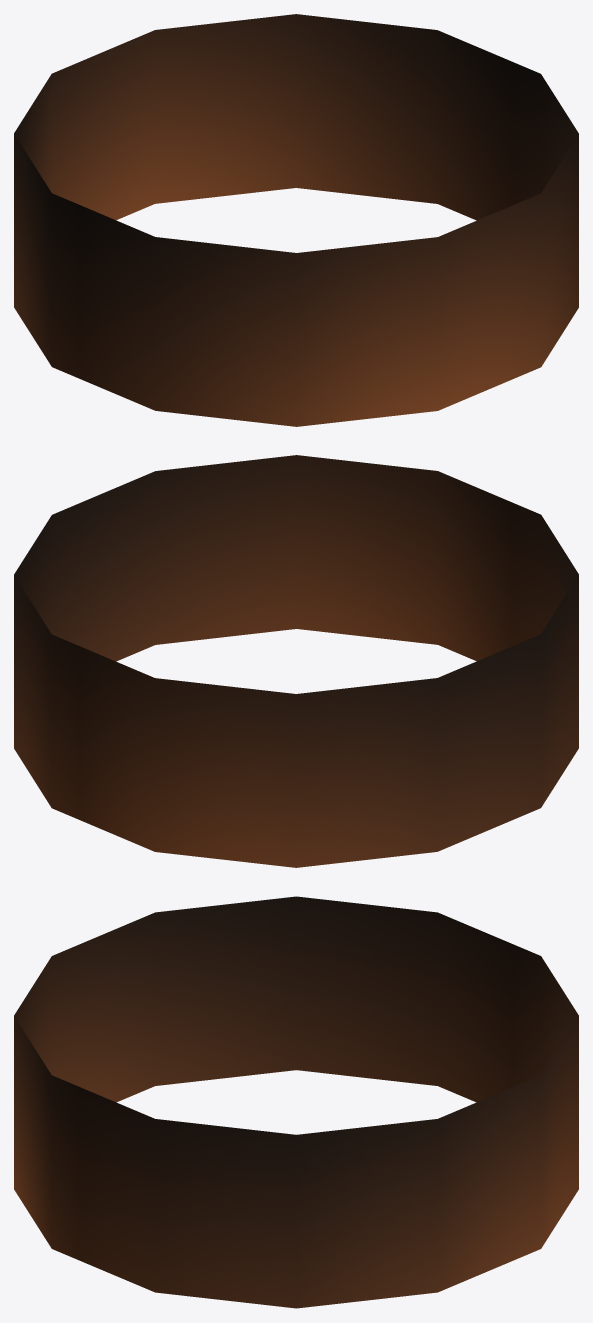
File: team_haikei.fbx
3 renders of one model, top to bottom at view 1: azimuth 30°, elevation 25°; view 2: azimuth 150°, elevation 25°; view 3: azimuth 270°, elevation 25°, orthographic.
Parts seen in each view (by area): view 1: pCylinder1; view 2: pCylinder1; view 3: pCylinder1.
Part boxes in pixels (x1,y1,x2,y2): pCylinder1: (14, 14, 578, 426); pCylinder1: (14, 455, 578, 867); pCylinder1: (14, 896, 578, 1308).
Size of the model in its own units: 351 by 119 by 351.
1 material, 1 textured.
